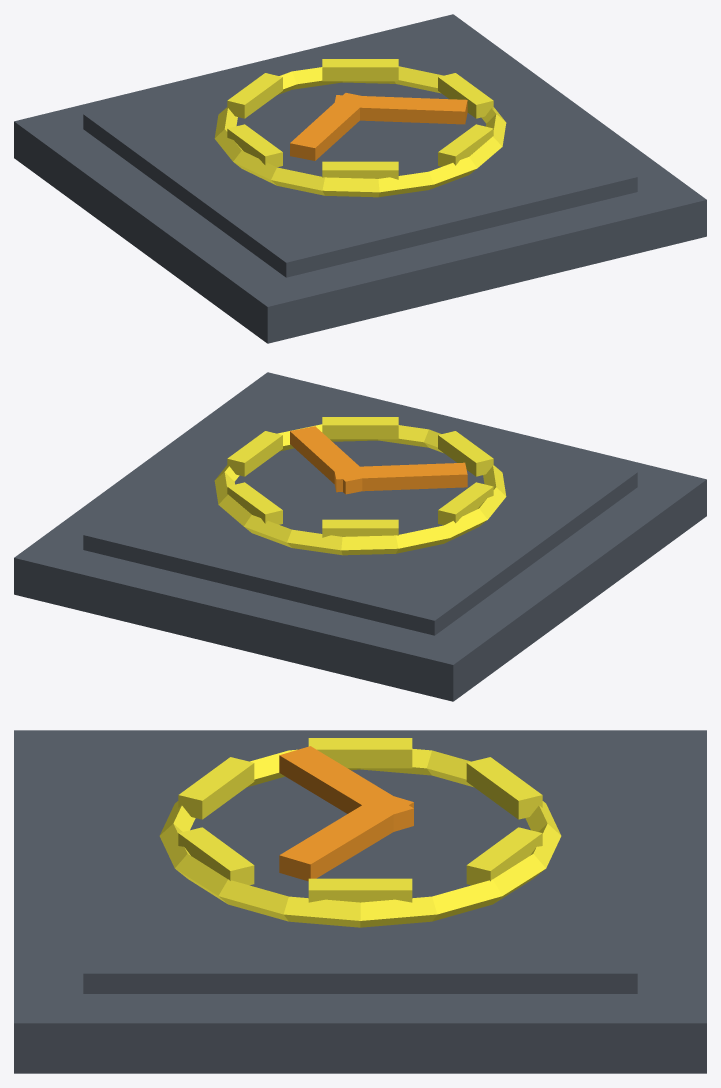
Rendered from TD_RateTile.fbx.
3 views of the same model, one above another, from view 1: azimuth 30°, elevation 25°; view 2: azimuth 150°, elevation 25°; view 3: azimuth 270°, elevation 25° (orthographic). The views are drawn at different scales.
Visible parts, largest first — view 1: TD_RateTile_Surface, TD_RateTile_BasePlate, TD_RateTile_RateDial, TD_RateTile_RateArrow_Right, TD_RateTile_RateArrow_Left, TD_RateTile_Tick_02, TD_RateTile_Tick_03, TD_RateTile_Tick_05, TD_RateTile_Tick_01, TD_RateTile_Tick_04, TD_RateTile_Tick_06; view 2: TD_RateTile_Surface, TD_RateTile_BasePlate, TD_RateTile_RateDial, TD_RateTile_RateArrow_Left, TD_RateTile_RateArrow_Right, TD_RateTile_Tick_06, TD_RateTile_Tick_01, TD_RateTile_Tick_05, TD_RateTile_Tick_03, TD_RateTile_Tick_04, TD_RateTile_Tick_02; view 3: TD_RateTile_Surface, TD_RateTile_BasePlate, TD_RateTile_RateDial, TD_RateTile_RateArrow_Left, TD_RateTile_RateArrow_Right, TD_RateTile_Tick_04, TD_RateTile_Tick_03, TD_RateTile_Tick_05, TD_RateTile_Tick_01, TD_RateTile_Tick_02, TD_RateTile_Tick_06.
Part boxes in pixels (left/top/right/bottom): TD_RateTile_Surface: left=83, top=28, right=637, bottom=277; TD_RateTile_BasePlate: left=14, top=14, right=706, bottom=343; TD_RateTile_RateDial: left=214, top=66, right=506, bottom=197; TD_RateTile_RateArrow_Right: left=334, top=95, right=467, bottom=124; TD_RateTile_RateArrow_Left: left=290, top=93, right=363, bottom=160; TD_RateTile_Tick_02: left=322, top=59, right=398, bottom=81; TD_RateTile_Tick_03: left=227, top=73, right=282, bottom=118; TD_RateTile_Tick_05: left=322, top=161, right=398, bottom=179; TD_RateTile_Tick_01: left=438, top=73, right=493, bottom=118; TD_RateTile_Tick_04: left=227, top=124, right=282, bottom=167; TD_RateTile_Tick_06: left=438, top=124, right=493, bottom=166; TD_RateTile_Surface: left=83, top=386, right=637, bottom=635; TD_RateTile_BasePlate: left=14, top=372, right=706, bottom=701; TD_RateTile_RateDial: left=214, top=424, right=506, bottom=555; TD_RateTile_RateArrow_Left: left=334, top=462, right=467, bottom=492; TD_RateTile_RateArrow_Right: left=290, top=426, right=362, bottom=494; TD_RateTile_Tick_06: left=322, top=417, right=398, bottom=439; TD_RateTile_Tick_01: left=227, top=431, right=282, bottom=476; TD_RateTile_Tick_05: left=438, top=431, right=493, bottom=476; TD_RateTile_Tick_03: left=322, top=519, right=398, bottom=537; TD_RateTile_Tick_04: left=438, top=482, right=493, bottom=525; TD_RateTile_Tick_02: left=227, top=482, right=282, bottom=524; TD_RateTile_Surface: left=83, top=739, right=637, bottom=993; TD_RateTile_BasePlate: left=14, top=730, right=706, bottom=1073; TD_RateTile_RateDial: left=159, top=748, right=561, bottom=927; TD_RateTile_RateArrow_Left: left=279, top=746, right=413, bottom=831; TD_RateTile_RateArrow_Right: left=279, top=793, right=413, bottom=881; TD_RateTile_Tick_04: left=308, top=738, right=412, bottom=768; TD_RateTile_Tick_03: left=466, top=757, right=542, bottom=819; TD_RateTile_Tick_05: left=178, top=757, right=254, bottom=819; TD_RateTile_Tick_01: left=308, top=878, right=412, bottom=902; TD_RateTile_Tick_02: left=466, top=827, right=542, bottom=885; TD_RateTile_Tick_06: left=178, top=827, right=254, bottom=885.
Bounding box in the file's own units: 100 × 19.4 × 100.
